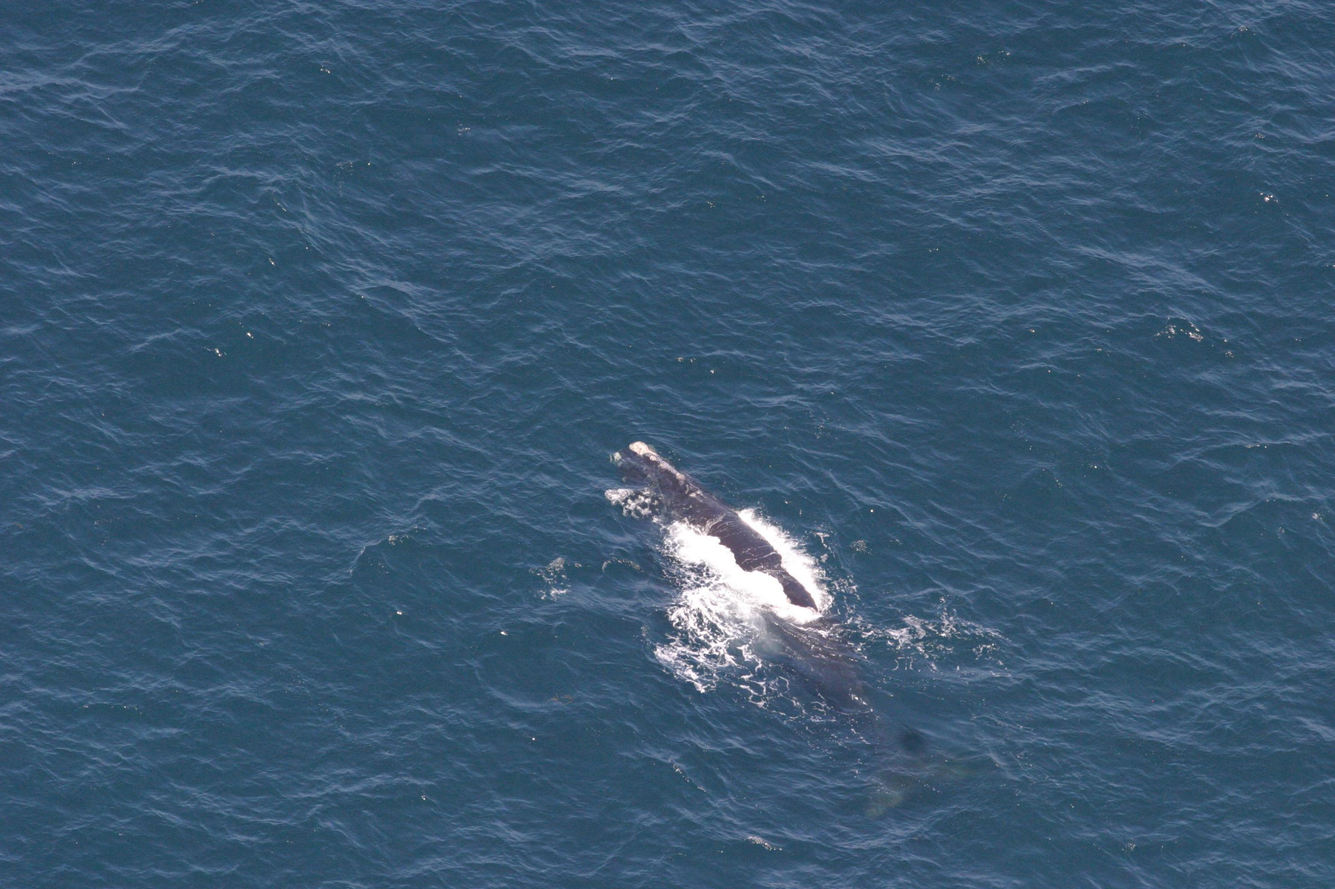whale: (585, 431, 988, 830)
